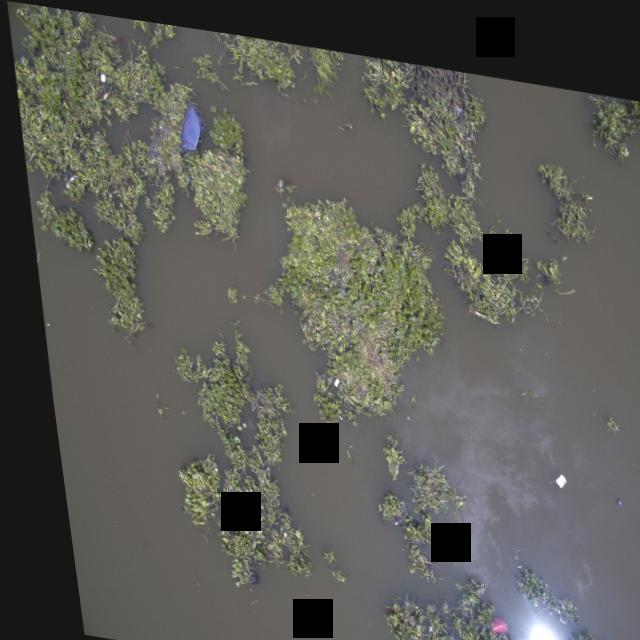plastic: (165, 89, 203, 160), (468, 601, 495, 630), (542, 454, 556, 476), (320, 364, 329, 379), (95, 68, 104, 79), (98, 87, 106, 99), (480, 237, 490, 246)
